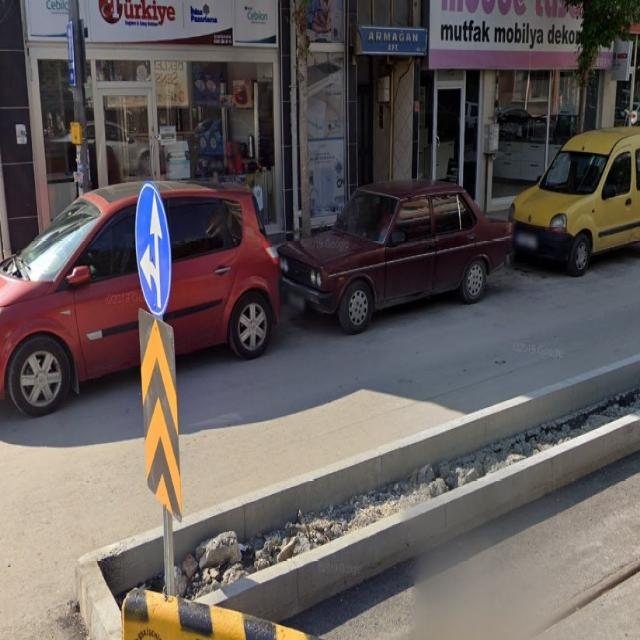ilerisol: (132, 180, 172, 315)
